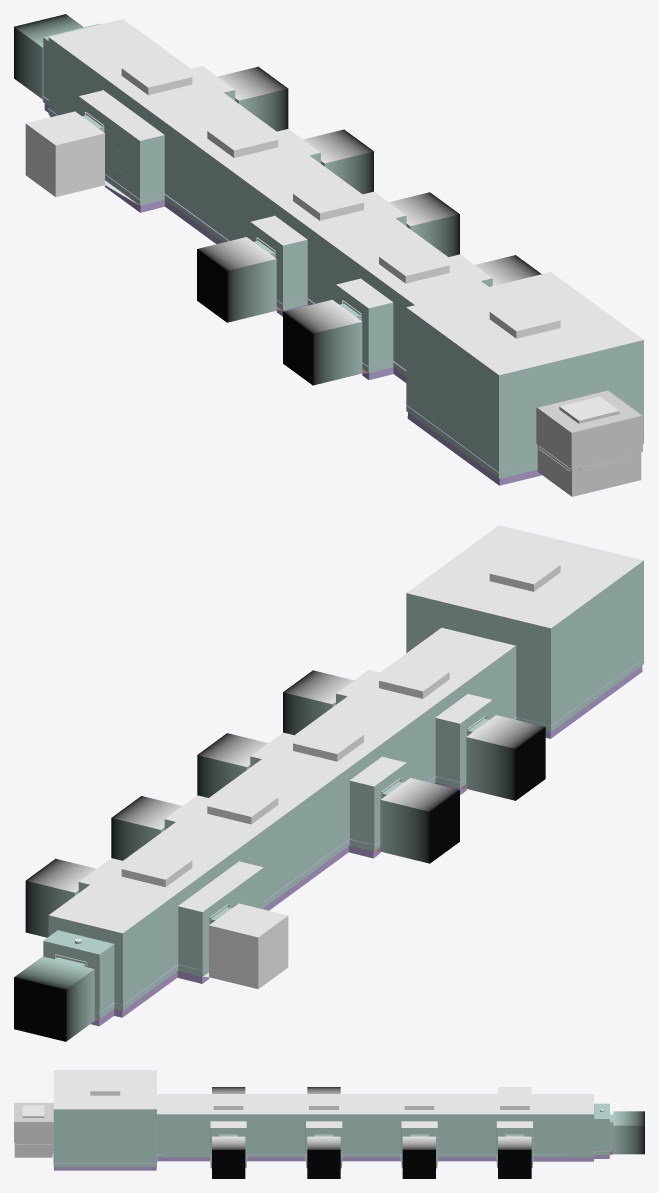
File: NewHallway.fbx
The picture shows the model from 3 angles, top to bottom: view 1: azimuth 30°, elevation 25°; view 2: azimuth 150°, elevation 25°; view 3: azimuth 270°, elevation 25°; orthographic projection. The views are drawn at different scales.
Parts seen in each view (by area): view 1: Cube.001, Cube.015, ElevactorInterior, Cube.006, Cube.008; view 2: Cube.001, Cube.015, Cube.008, Cube.009, Cube.006; view 3: Cube.001, Cube.015, ElevactorInterior, Cube.014, Cube.010, Cube.012, Cube.013, Cube.011.
Part boxes in pixels (x1=…): Cube.001: x1=14, y1=14, x2=643, y2=478; Cube.015: x1=49, y1=19, x2=643, y2=375; ElevactorInterior: x1=536, y1=390, x2=642, y2=496; Cube.006: x1=362, y1=361, x2=541, y2=485; Cube.008: x1=105, y1=174, x2=229, y2=244; Cube.001: x1=14, y1=554, x2=643, y2=1041; Cube.015: x1=26, y1=525, x2=643, y2=941; Cube.008: x1=264, y1=839, x2=380, y2=910; Cube.009: x1=90, y1=964, x2=209, y2=1026; Cube.006: x1=513, y1=657, x2=644, y2=738; Cube.001: x1=53, y1=1079, x2=644, y2=1178; Cube.015: x1=53, y1=1070, x2=603, y2=1149; ElevactorInterior: x1=14, y1=1102, x2=53, y2=1157; Cube.014: x1=53, y1=1149, x2=211, y2=1170; Cube.010: x1=531, y1=1148, x2=610, y2=1167; Cube.012: x1=340, y1=1154, x2=402, y2=1168; Cube.013: x1=245, y1=1154, x2=307, y2=1168; Cube.011: x1=436, y1=1154, x2=497, y2=1168.
Bounding box in the file's own units: 940 × 459 × 3968.
